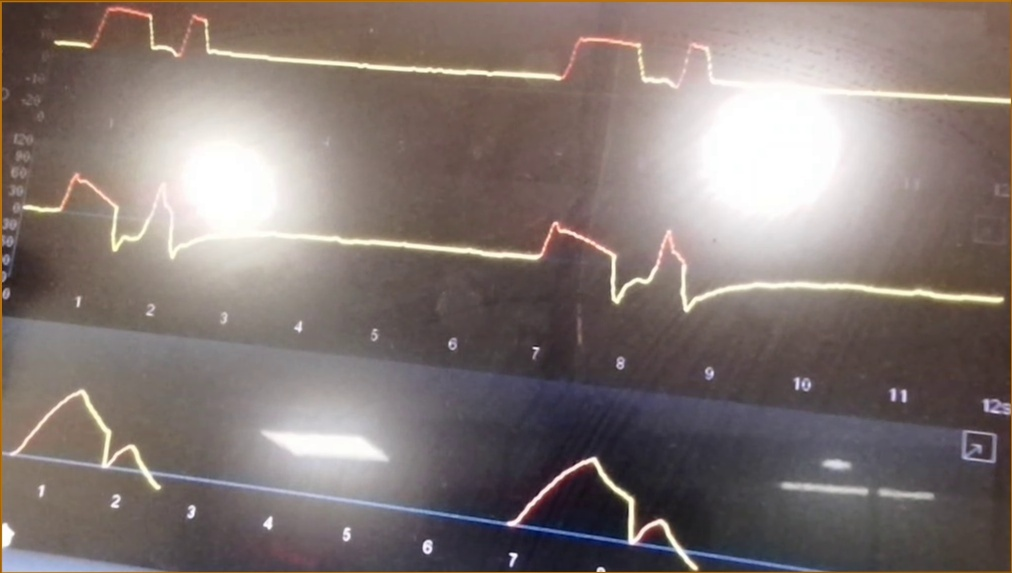Double_Triggering Flow: (27, 159, 998, 321)
Double_Triggering Volume: (6, 380, 716, 569)
